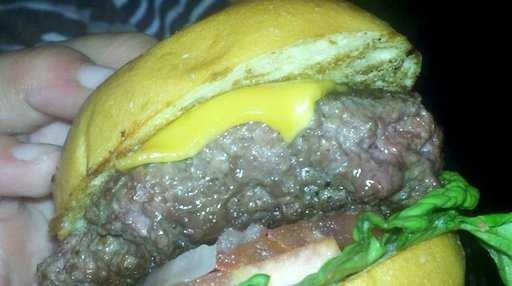hamburger: (43, 3, 447, 286)
